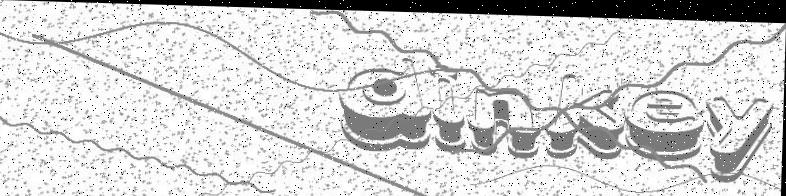d: (334, 53, 434, 148)
e: (623, 83, 708, 158)
k: (548, 63, 626, 162)
l: (426, 57, 473, 154)
n: (468, 76, 542, 159)
y: (706, 88, 775, 179)
